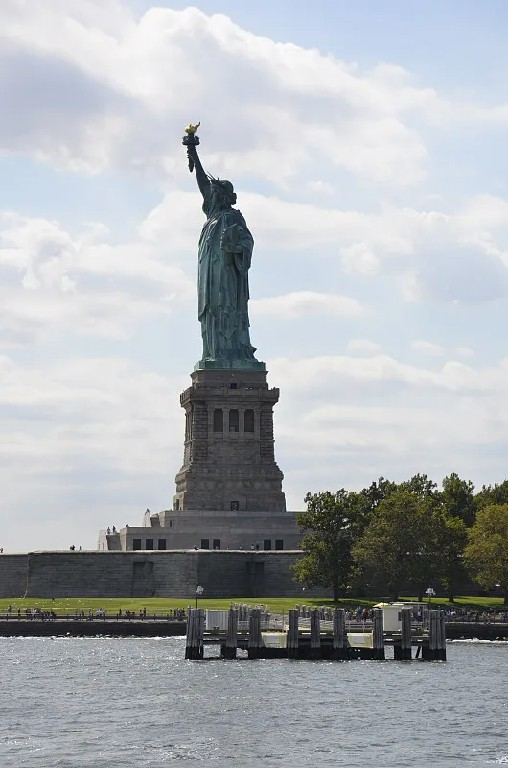SL: (173, 122, 288, 512)
